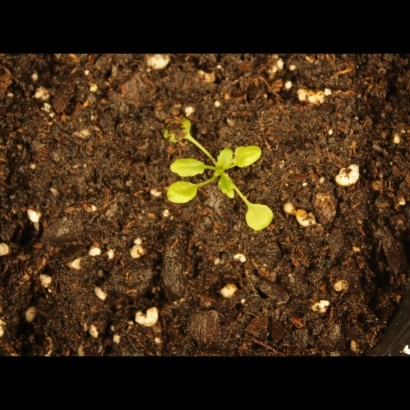leaf: (156, 111, 201, 147), (241, 196, 277, 236), (163, 181, 202, 208), (167, 156, 210, 179), (234, 140, 266, 168), (214, 172, 240, 202), (212, 146, 236, 176)
